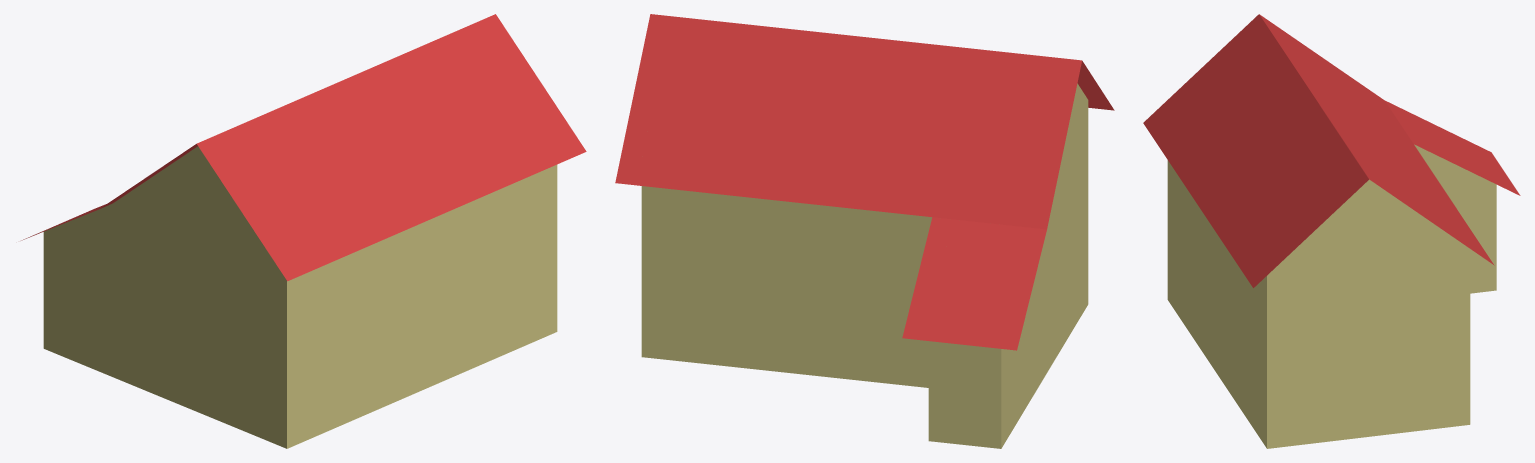
3 views of the same model, side by side, from view 1: azimuth 30°, elevation 25°; view 2: azimuth 150°, elevation 25°; view 3: azimuth 270°, elevation 25° (orthographic). The views are drawn at different scales.
Size of the model in its own units: 24.76 by 19.1 by 14.84.
